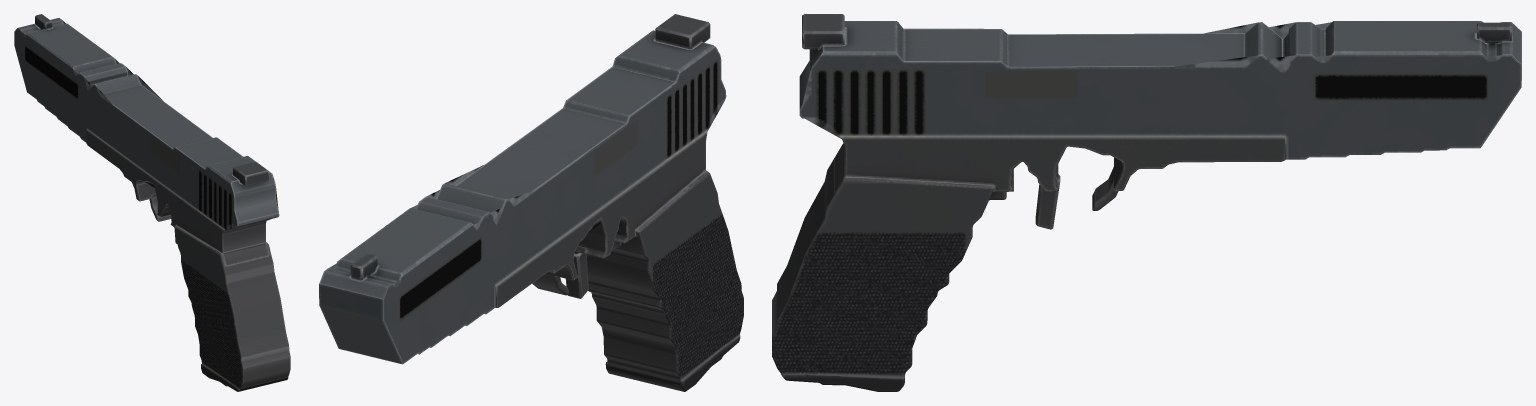
File: AT_GXP.fbx
3 renders of one model, left to right at view 1: azimuth 30°, elevation 25°; view 2: azimuth 150°, elevation 25°; view 3: azimuth 270°, elevation 25°, orthographic. The views are drawn at different scales.
Parts seen in each view (by area): view 1: AT_GXP_export; view 2: AT_GXP_export; view 3: AT_GXP_export.
Part boxes in pixels (x1,y1,x2,y2): AT_GXP_export: [14, 14, 290, 391]; AT_GXP_export: [319, 14, 743, 391]; AT_GXP_export: [772, 14, 1521, 391].
Size of the model in its own units: 0.0255 by 0.2013 by 0.1037.
